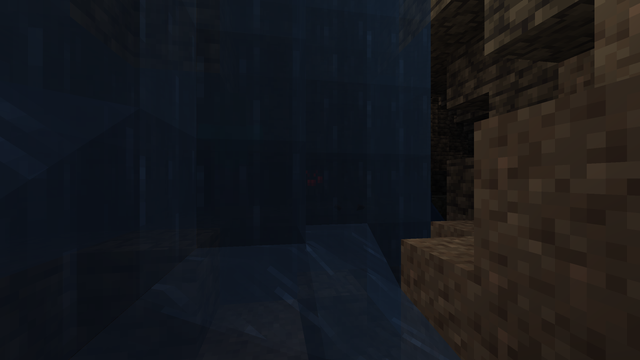araignees: (299, 165, 376, 212)
endermens: (399, 104, 426, 199)
zombies: (208, 93, 251, 219)
